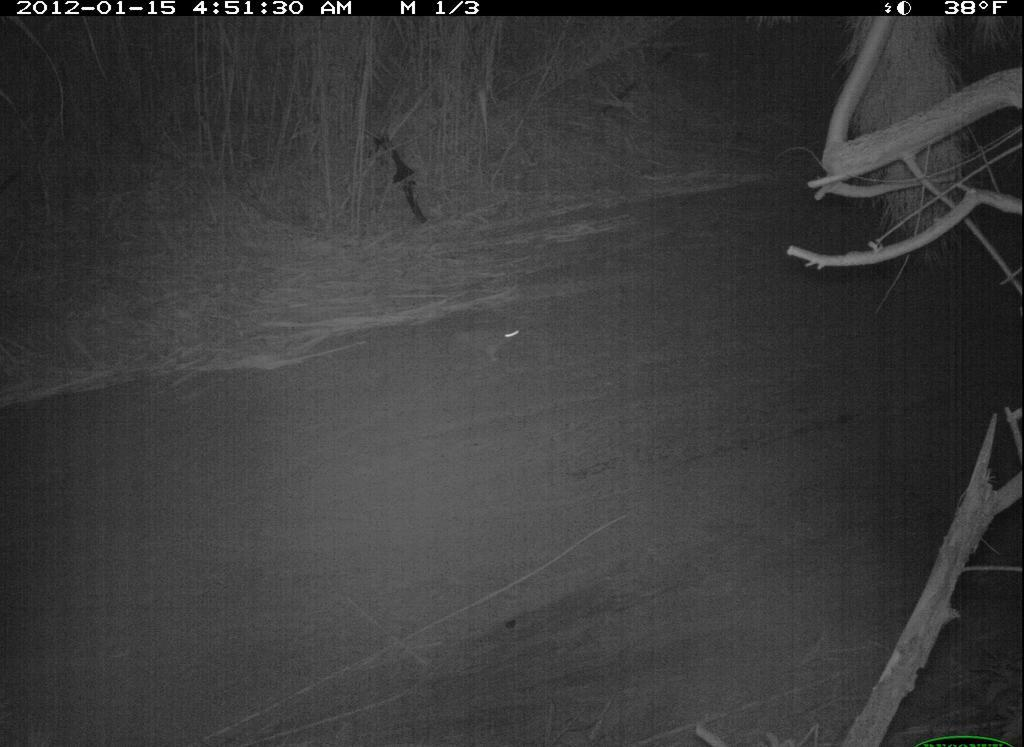rabbit: (433, 310, 530, 383)
